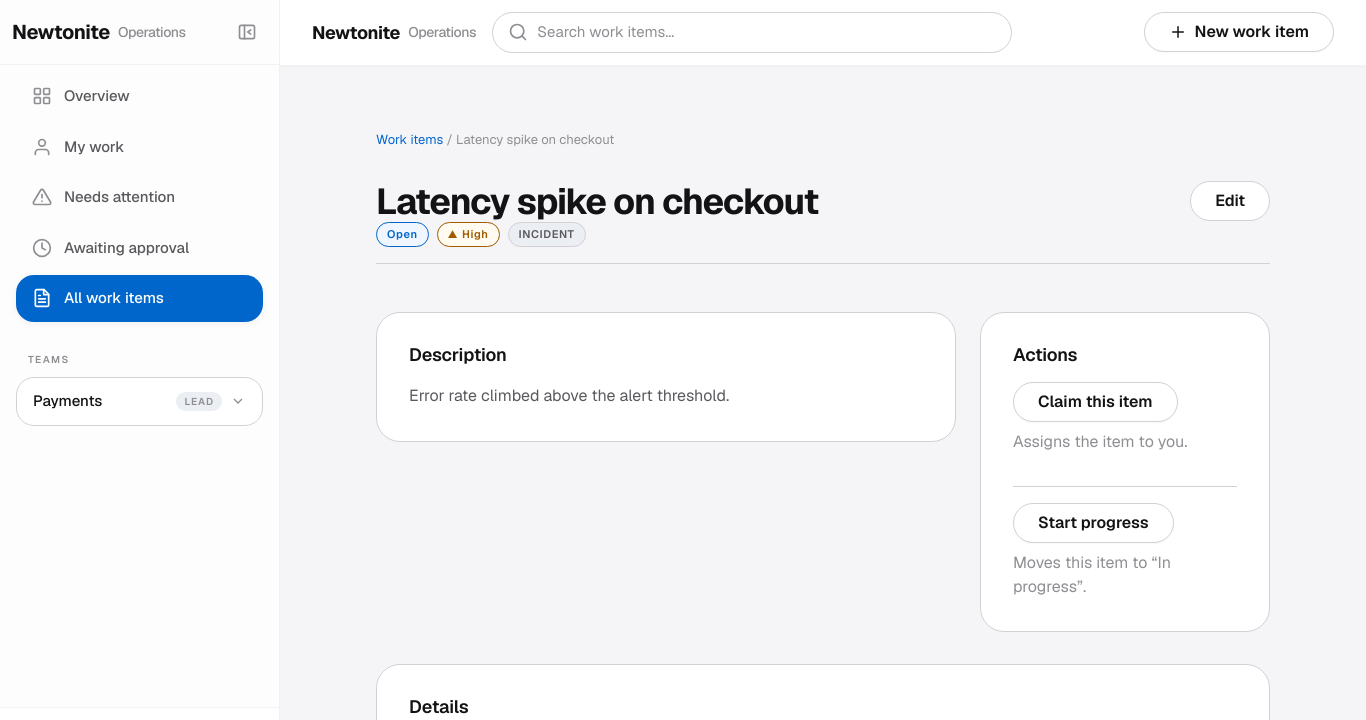
it: ItemDetailPage › claims an unassigned item and refreshes the view
Expected: the heading "Latency spike on checkout" is shown, [376, 181, 818, 222]
Click the button "Claim this item": (1095, 402) [1013, 382, 1178, 422]
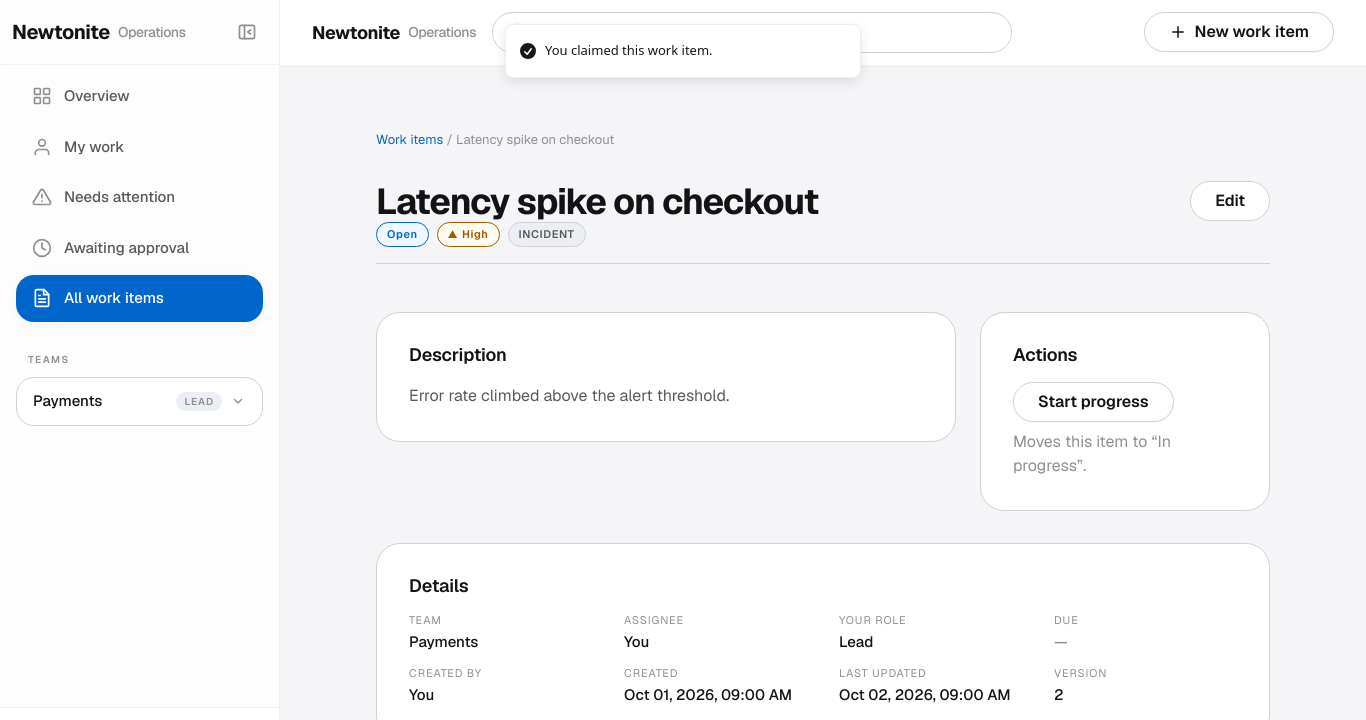
Expected: the text "You claimed this work item." is shown, [545, 41, 713, 60]
